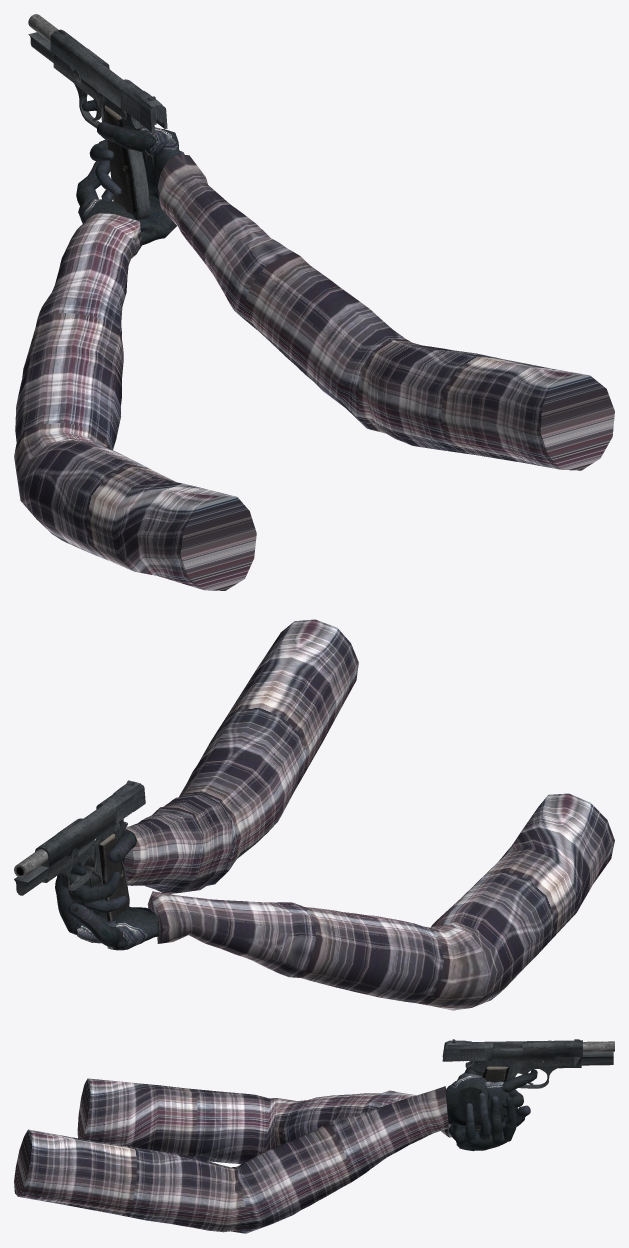
File: hipower_adsfire.fbx
The picture shows the model from 3 angles, top to bottom: view 1: azimuth 30°, elevation 25°; view 2: azimuth 150°, elevation 25°; view 3: azimuth 270°, elevation 25°; orthographic projection. The views are drawn at different scales.
Parts seen in each view (by area): view 1: rarm, larm, hipower_slide, lhand, rhand, hipower_plasticgrip, hipower_grip, hipower_body, rthumb; view 2: larm, rarm, hipower_slide, lhand, hipower_body, hipower_plasticgrip, lthumb, rmfinger, hipower_grip, lpfinger, rthumb, rrfinger; view 3: rarm, larm, hipower_slide, rhand, hipower_body, lhand, lmfinger, hipower_grip, lpfinger, lrfinger, rpfinger, hipower_plasticgrip (+2 smaller).
Boxes of the visible parts, x1,y1,x2,y2 form: rarm: [157, 154, 614, 470]; larm: [14, 213, 256, 590]; hipower_slide: [50, 29, 167, 132]; lhand: [78, 193, 176, 245]; rhand: [140, 127, 181, 198]; hipower_plasticgrip: [104, 105, 149, 214]; hipower_grip: [102, 96, 150, 220]; hipower_body: [28, 32, 103, 121]; rthumb: [97, 121, 147, 153]; larm: [147, 793, 614, 1010]; rarm: [123, 619, 358, 893]; hipower_slide: [35, 782, 145, 867]; lhand: [76, 906, 159, 950]; hipower_body: [14, 839, 96, 895]; hipower_plasticgrip: [90, 833, 129, 921]; lthumb: [68, 903, 122, 950]; rmfinger: [69, 871, 120, 903]; hipower_grip: [84, 818, 129, 919]; lpfinger: [55, 873, 81, 934]; rthumb: [107, 830, 136, 863]; rrfinger: [68, 890, 127, 913]; rarm: [14, 1086, 449, 1233]; larm: [77, 1078, 451, 1164]; hipower_slide: [442, 1040, 582, 1061]; rhand: [445, 1073, 509, 1126]; hipower_body: [511, 1051, 613, 1077]; lhand: [448, 1124, 507, 1151]; lmfinger: [490, 1095, 502, 1143]; hipower_grip: [464, 1060, 513, 1130]; lpfinger: [503, 1096, 517, 1141]; lrfinger: [479, 1092, 490, 1140]; rpfinger: [501, 1069, 537, 1092]; hipower_plasticgrip: [475, 1066, 509, 1129].
Size of the model in its own units: 19.01 by 12.52 by 34.76.
Materials: 3 (3 with a texture image).
